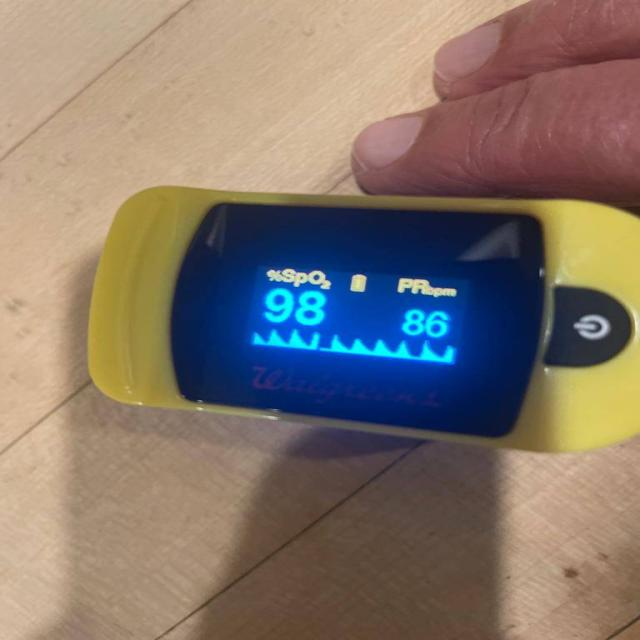spo2: (89, 189, 639, 454)
